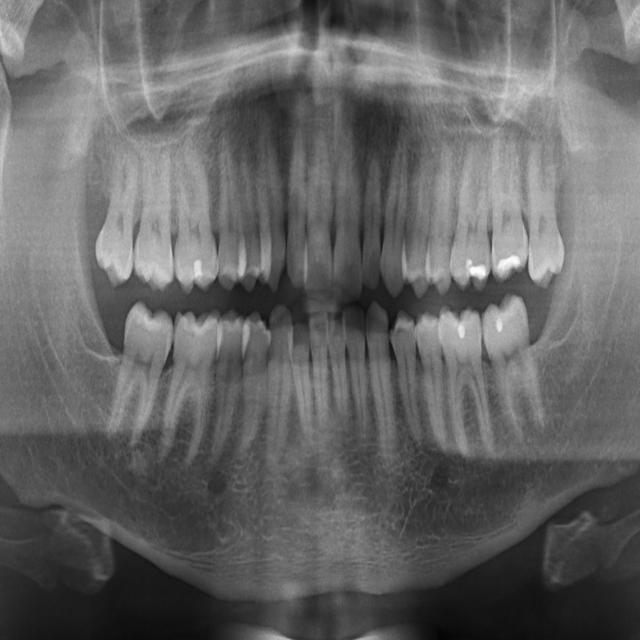3M ESPE Implant: (89, 140, 142, 291)
AGS Medikal Implant: (361, 132, 382, 292)
AMerOss Implant: (381, 101, 408, 301)
Amalgam filling: (402, 125, 436, 301)
Anthogyr Implant: (428, 126, 455, 297)
Bicon Implant: (452, 134, 493, 295)
BioHorizons Implant: (491, 123, 528, 286)
BioLife Implant: (525, 112, 569, 293)
Blue Sky Bio Implant: (512, 380, 513, 381)
Camlog Implant: (437, 299, 500, 467)
Caries: (156, 168, 157, 171)
Composite filling: (412, 307, 456, 458)
Cowellmedi Implant: (388, 305, 424, 450)
Crown: (364, 295, 399, 474)
DENTSPLY Implant: (343, 304, 370, 439)
Dentatus Implant: (325, 309, 353, 441)
Dentis Implant: (308, 310, 332, 434)
Dentium Implant: (290, 320, 315, 448)
Euroteknika Implant: (265, 301, 294, 473)
Filling: (231, 306, 273, 460)
Frontier Implant: (204, 304, 247, 466)
Hiossen Implant: (174, 132, 216, 297)
Implant: (139, 380, 139, 382)
Implant Direct: (153, 301, 222, 472)
MIS Implant: (217, 124, 239, 293)
Mandible: (236, 126, 261, 294)
Maxilla: (251, 88, 288, 295)
Megagen Implant: (285, 116, 308, 291)
Neodent Implant: (305, 123, 333, 301)
Neoss Implant: (330, 112, 364, 305)
